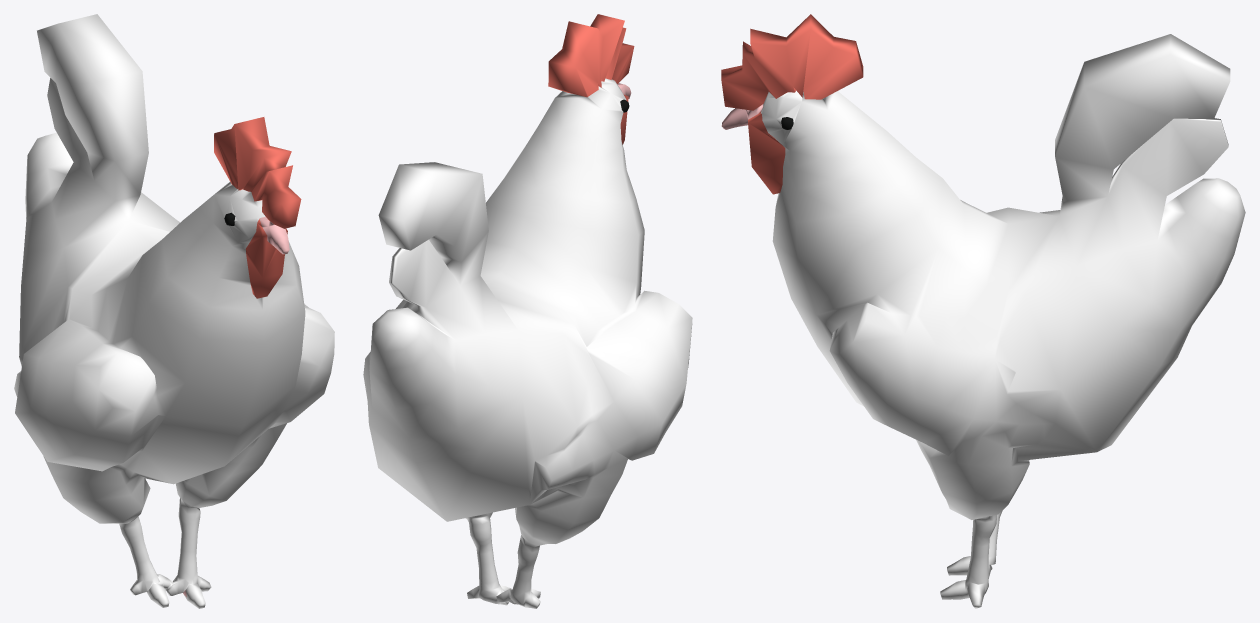
File: cock.fbx
3 views of the same model, side by side, from view 1: azimuth 30°, elevation 25°; view 2: azimuth 150°, elevation 25°; view 3: azimuth 270°, elevation 25° (orthographic). The views are drawn at different scales.
Parts seen in each view (by area): view 1: unamed; view 2: unamed; view 3: unamed.
Part boxes in pixels (left/top/right/bottom): unamed: left=14, top=14, right=334, bottom=608; unamed: left=363, top=14, right=692, bottom=608; unamed: left=721, top=14, right=1245, bottom=608.
Bounding box in the file's own units: 0.5352 × 0.9489 × 0.7922.
Materials: 1 (1 with a texture image).
